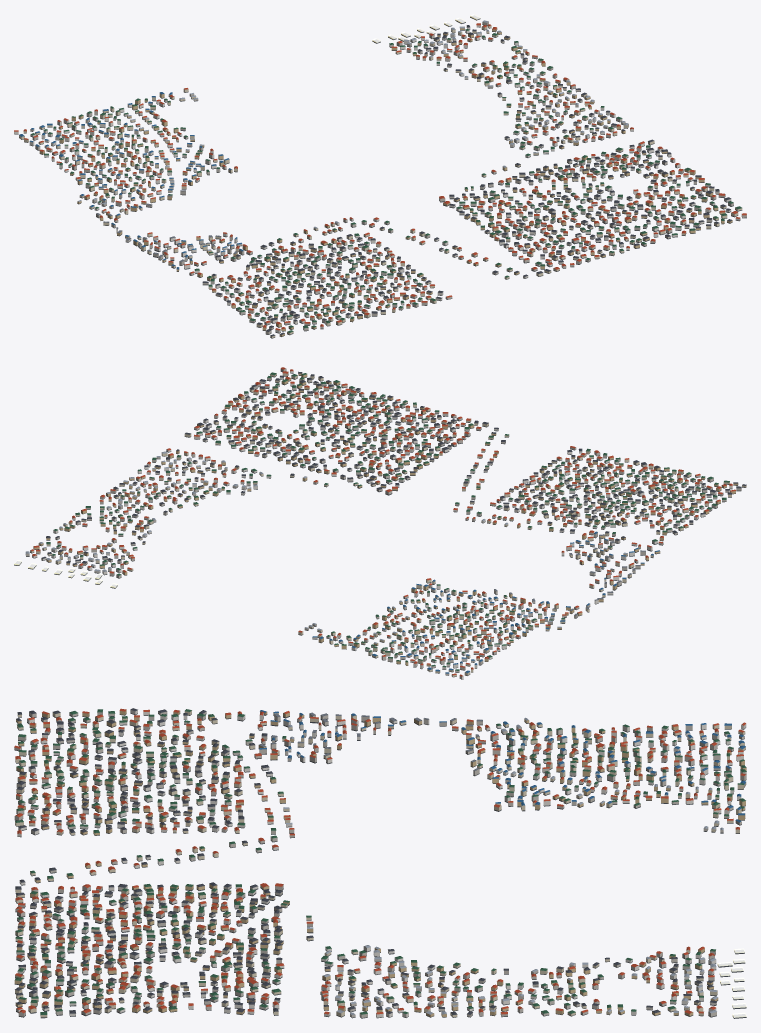
File: buildings_T_E00_N00.glb
The picture shows the model from 3 angles, top to bottom: view 1: azimuth 30°, elevation 25°; view 2: azimuth 150°, elevation 25°; view 3: azimuth 270°, elevation 25°; orthographic projection. The views are drawn at different scales.
Visible parts, largest first — view 1: T_E00_N00_slope_seating_foundations, T_E00_N00_walls_wall_pastel_sand_gray, T_E00_N00_walls_wall_dalat_cream_stucco, T_E00_N00_walls_wall_french_ochre_villa, T_E00_N00_roofs_roof_terracotta_gable, T_E00_N00_walls_wall_modern_warm_white, T_E00_N00_roofs_roof_pine_green_hip, T_E00_N00_roofs_roof_slate_French_villa_hip, T_E00_N00_roofs_roof_highland_blue_gable, T_E00_N00_roofs_roof_zinc_silver_gable; view 2: T_E00_N00_slope_seating_foundations, T_E00_N00_walls_wall_dalat_cream_stucco, T_E00_N00_walls_wall_pastel_sand_gray, T_E00_N00_walls_wall_french_ochre_villa, T_E00_N00_roofs_roof_terracotta_gable, T_E00_N00_walls_wall_modern_warm_white, T_E00_N00_roofs_roof_pine_green_hip, T_E00_N00_roofs_roof_slate_French_villa_hip, T_E00_N00_roofs_roof_highland_blue_gable, T_E00_N00_roofs_roof_zinc_silver_gable; view 3: T_E00_N00_slope_seating_foundations, T_E00_N00_roofs_roof_terracotta_gable, T_E00_N00_walls_wall_pastel_sand_gray, T_E00_N00_walls_wall_dalat_cream_stucco, T_E00_N00_walls_wall_french_ochre_villa, T_E00_N00_walls_wall_modern_warm_white, T_E00_N00_roofs_roof_pine_green_hip, T_E00_N00_roofs_roof_slate_French_villa_hip, T_E00_N00_roofs_roof_highland_blue_gable, T_E00_N00_roofs_roof_zinc_silver_gable, T_E00_N00_roofs_agri_greenhouse_arch.
Part boxes in pixels (x1,y1,x2,y2): T_E00_N00_slope_seating_foundations: (14, 16, 746, 338); T_E00_N00_walls_wall_pastel_sand_gray: (30, 21, 746, 334); T_E00_N00_walls_wall_dalat_cream_stucco: (19, 25, 742, 337); T_E00_N00_walls_wall_french_ochre_villa: (39, 28, 732, 336); T_E00_N00_roofs_roof_terracotta_gable: (14, 23, 746, 330); T_E00_N00_walls_wall_modern_warm_white: (14, 25, 740, 332); T_E00_N00_roofs_roof_pine_green_hip: (30, 29, 741, 332); T_E00_N00_roofs_roof_slate_French_villa_hip: (202, 25, 732, 336); T_E00_N00_roofs_roof_highland_blue_gable: (19, 92, 243, 269); T_E00_N00_roofs_roof_zinc_silver_gable: (78, 20, 628, 256); T_E00_N00_slope_seating_foundations: (14, 371, 746, 679); T_E00_N00_walls_wall_dalat_cream_stucco: (30, 372, 746, 676); T_E00_N00_walls_wall_pastel_sand_gray: (25, 368, 741, 675); T_E00_N00_walls_wall_french_ochre_villa: (33, 373, 738, 666); T_E00_N00_roofs_roof_terracotta_gable: (30, 367, 735, 676); T_E00_N00_walls_wall_modern_warm_white: (32, 371, 732, 679); T_E00_N00_roofs_roof_pine_green_hip: (46, 372, 729, 670); T_E00_N00_roofs_roof_slate_French_villa_hip: (41, 371, 746, 564); T_E00_N00_roofs_roof_highland_blue_gable: (312, 531, 659, 673); T_E00_N00_roofs_roof_zinc_silver_gable: (25, 451, 627, 643); T_E00_N00_slope_seating_foundations: (14, 713, 746, 1018); T_E00_N00_roofs_roof_terracotta_gable: (14, 708, 746, 1014); T_E00_N00_walls_wall_pastel_sand_gray: (14, 711, 746, 1017); T_E00_N00_walls_wall_dalat_cream_stucco: (15, 710, 746, 1017); T_E00_N00_walls_wall_french_ochre_villa: (14, 710, 746, 1016); T_E00_N00_walls_wall_modern_warm_white: (16, 710, 746, 1017); T_E00_N00_roofs_roof_pine_green_hip: (15, 709, 746, 1014); T_E00_N00_roofs_roof_slate_French_villa_hip: (15, 708, 716, 1014); T_E00_N00_roofs_roof_highland_blue_gable: (259, 710, 745, 822); T_E00_N00_roofs_roof_zinc_silver_gable: (283, 717, 723, 1015); T_E00_N00_roofs_agri_greenhouse_arch: (717, 948, 746, 1017).
Size of the model in its own units: 1962 by 74.82 by 1938.
